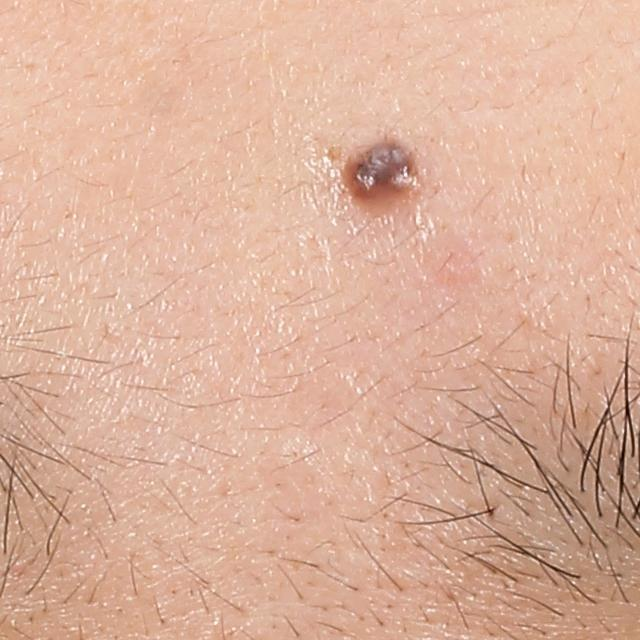nevus: (342, 132, 428, 204)
